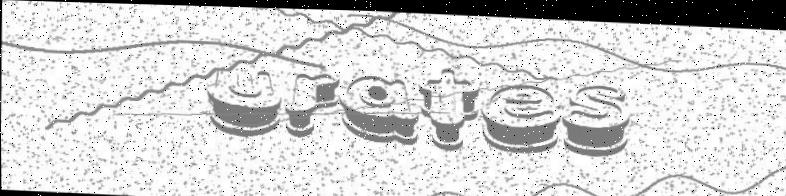a: (340, 72, 419, 143)
e: (481, 81, 561, 151)
r: (285, 70, 339, 137)
s: (561, 80, 628, 154)
t: (419, 64, 478, 149)
u: (209, 67, 281, 137)
